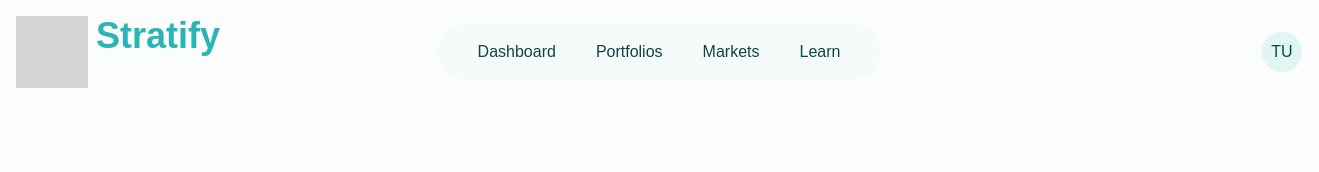
it: AppNavbar › should open the user menu when clicking on the user icon
Click the element with test id "user-icon" at {"x": 1282, "y": 52}, box [1262,32,1302,72]
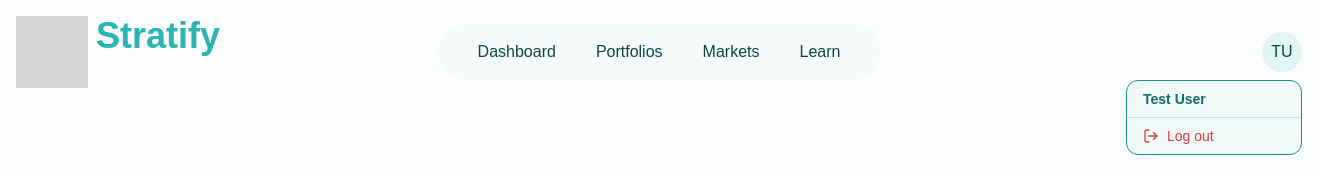
Now the element with test id "user-menu" is shown, box [1126,80,1302,155]
Now the text "Test User" is shown, box [1127,81,1301,118]
Now the text "Log out" is shown, box [1143,128,1214,144]
